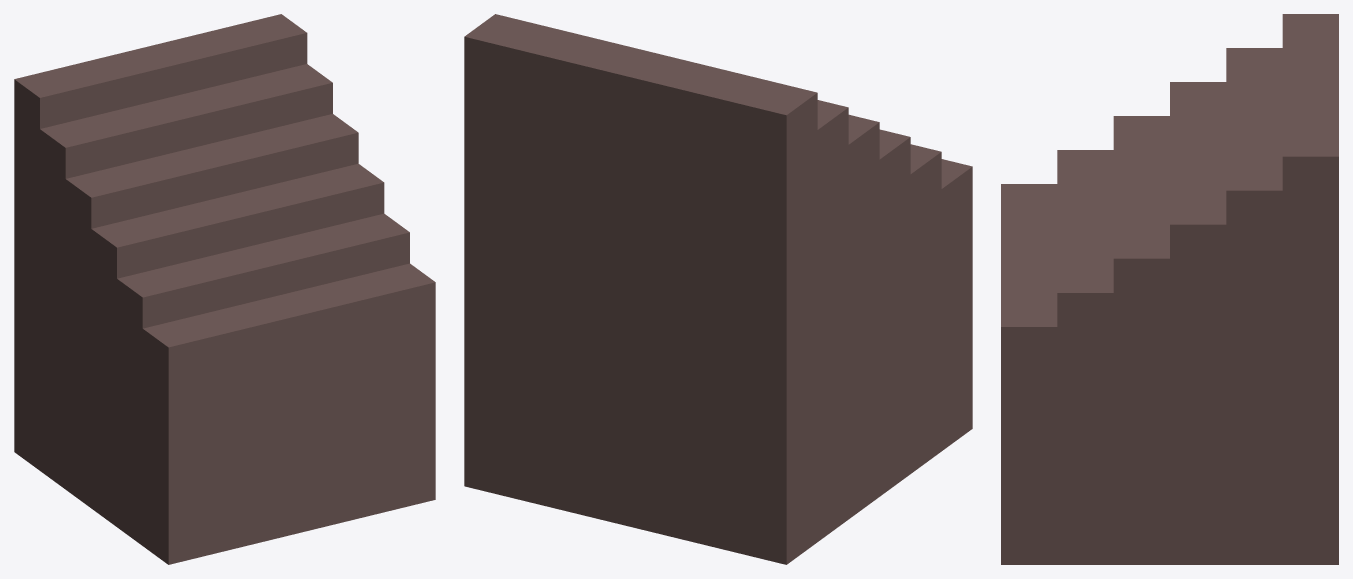
The model's file is Stairs_Mid.fbx.
3 renders of one model, left to right at view 1: azimuth 30°, elevation 25°; view 2: azimuth 150°, elevation 25°; view 3: azimuth 270°, elevation 25°, orthographic. The views are drawn at different scales.
Visible parts, largest first — view 1: Stairs_Mid; view 2: Stairs_Mid; view 3: Stairs_Mid.
Part boxes in pixels (<box>): Stairs_Mid: <box>14,14,435,564</box>; Stairs_Mid: <box>464,14,972,564</box>; Stairs_Mid: <box>1001,14,1338,564</box>.
Size of the model in its own units: 180 by 240 by 180.
